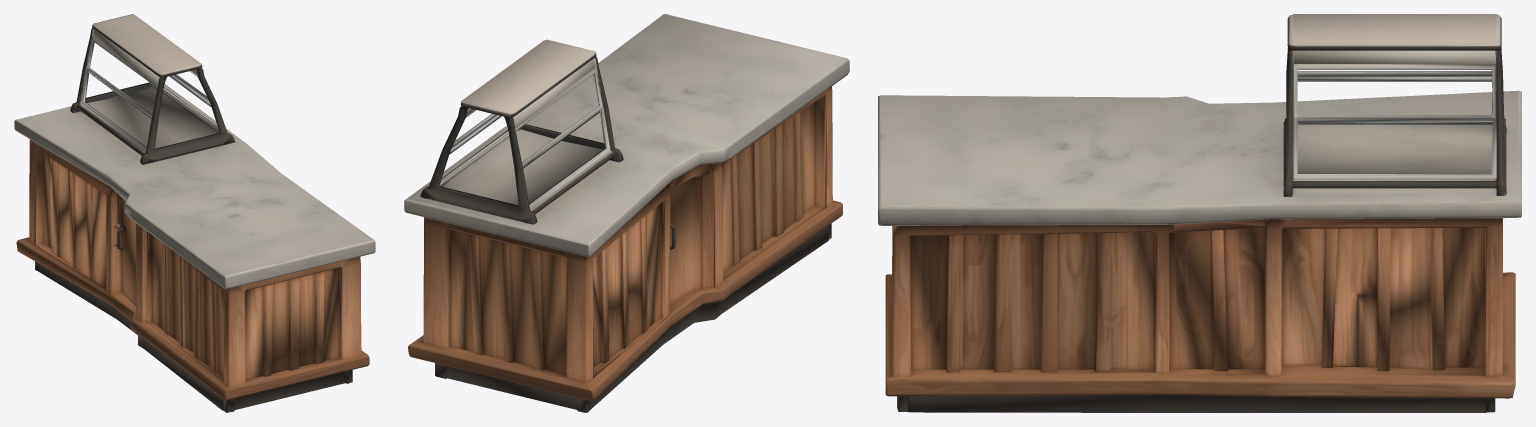
3 views of the same model, side by side, from view 1: azimuth 30°, elevation 25°; view 2: azimuth 150°, elevation 25°; view 3: azimuth 270°, elevation 25° (orthographic). The views are drawn at different scales.
Parts seen in each view (by area): view 1: tripo_node_6a0247be-d440-4319-bf7c-03e913dd4c41; view 2: tripo_node_6a0247be-d440-4319-bf7c-03e913dd4c41; view 3: tripo_node_6a0247be-d440-4319-bf7c-03e913dd4c41.
Part boxes in pixels (<box>): tripo_node_6a0247be-d440-4319-bf7c-03e913dd4c41: <box>14,14,375,412</box>; tripo_node_6a0247be-d440-4319-bf7c-03e913dd4c41: <box>404,14,849,412</box>; tripo_node_6a0247be-d440-4319-bf7c-03e913dd4c41: <box>878,14,1521,412</box>.
Size of the model in its own units: 0.416 by 0.5996 by 0.998.
Materials: 1 (1 with a texture image).
